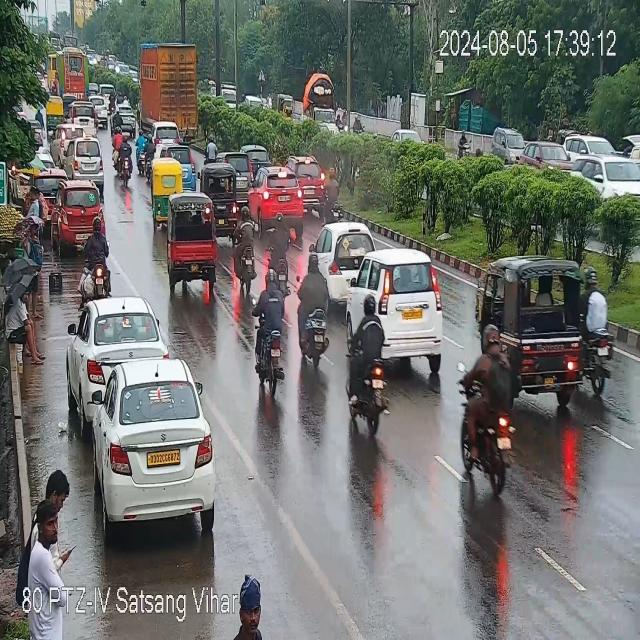2-wheelers: (456, 320, 516, 495), (342, 282, 388, 432), (252, 273, 289, 402), (297, 255, 326, 374), (587, 276, 614, 390), (85, 218, 112, 287), (267, 214, 290, 290), (236, 207, 256, 288), (113, 132, 132, 188), (136, 128, 152, 173), (113, 111, 137, 135), (205, 136, 218, 160), (109, 89, 115, 113)
auto: (484, 253, 589, 396), (166, 193, 220, 277), (202, 168, 245, 230), (151, 161, 183, 222), (202, 164, 238, 206), (43, 93, 69, 128)
bus: (43, 50, 91, 95)
car: (83, 363, 215, 530), (350, 245, 450, 371), (68, 296, 167, 401), (516, 125, 639, 195), (312, 219, 400, 302), (251, 168, 304, 236), (53, 180, 103, 242), (69, 137, 106, 176), (298, 160, 328, 205), (41, 162, 63, 218), (225, 154, 257, 187), (180, 144, 199, 190), (72, 100, 98, 133), (153, 124, 186, 146), (95, 96, 109, 128), (124, 106, 136, 133)
pedestrian: (3, 282, 48, 368), (28, 499, 65, 575), (240, 572, 269, 640), (26, 223, 40, 315), (45, 469, 68, 505), (27, 188, 44, 224)
truck: (140, 42, 204, 133), (302, 76, 337, 128)
